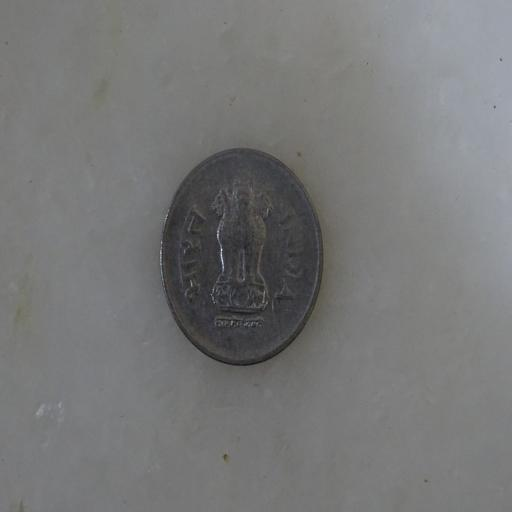rupee1: (156, 148, 323, 367)
